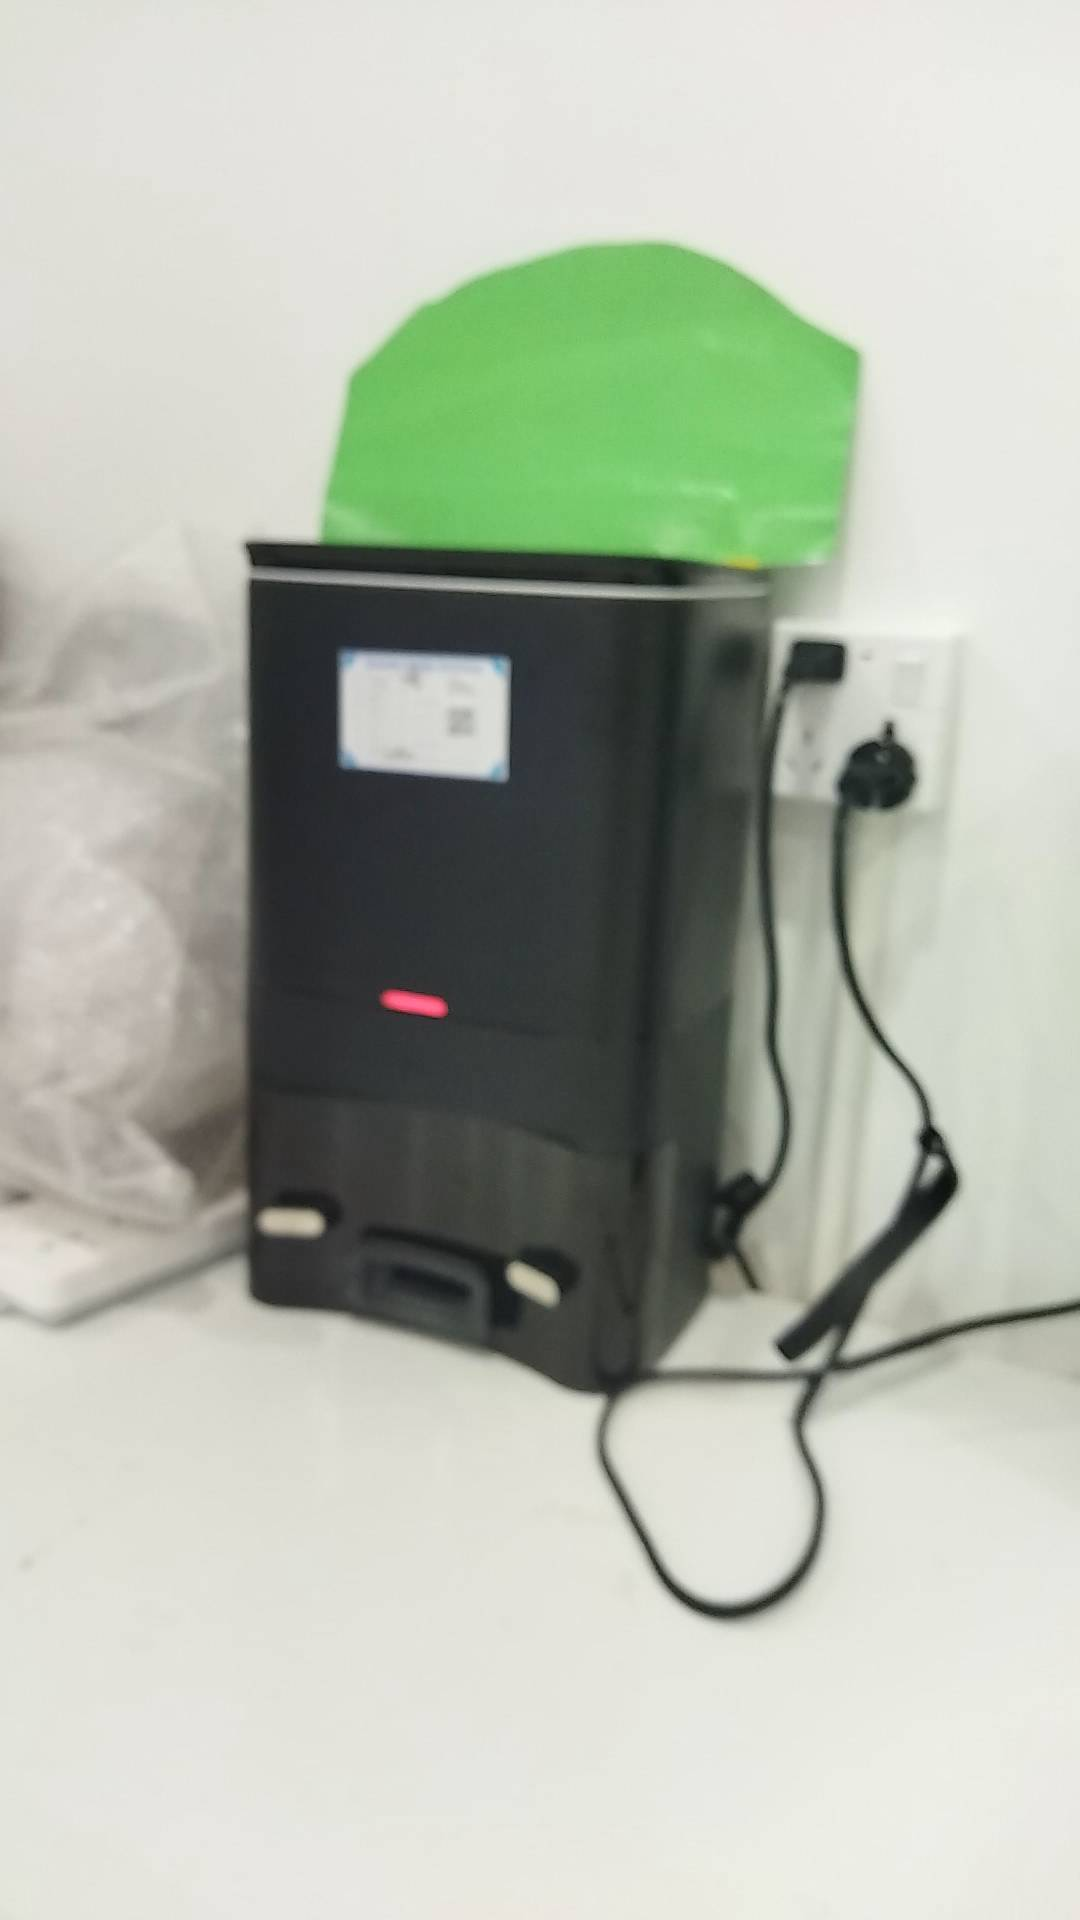dust collecting barrel: (243, 543, 779, 1404)
